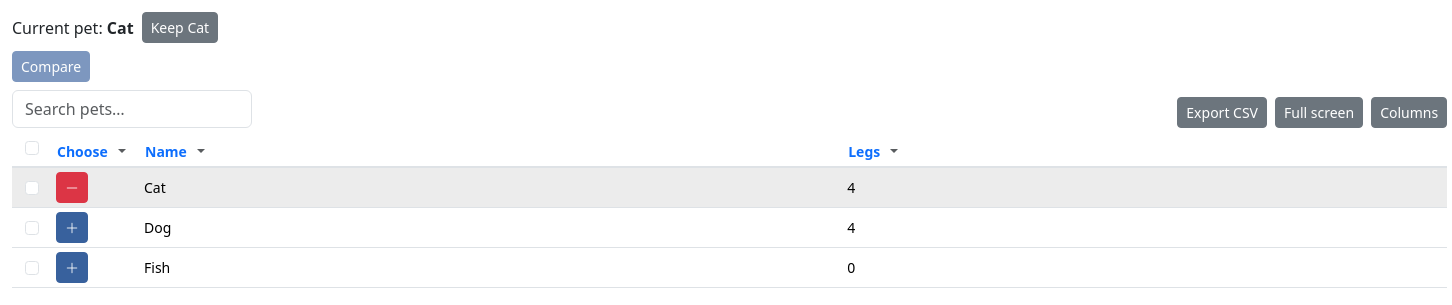
PickOne › when the section opens and shuts the table › shuts the table on Remove, leaving the line to choose again
The image size is (1452, 305).
What coordinates should you click on to do the following:
click the button named "Remove"
I would click on:
 (72, 188)
Its box is top-left (56, 172), bottom-right (88, 203).
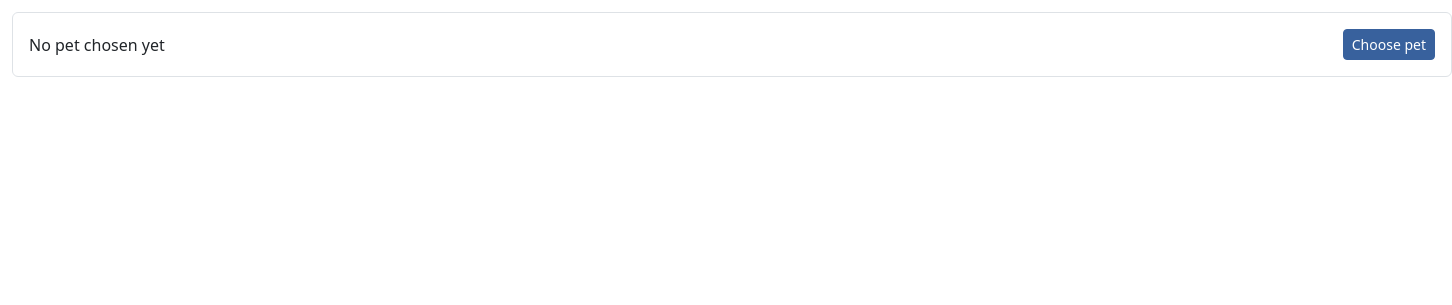
expect the text "No pet chosen yet" is shown: met, box top-left (29, 34), bottom-right (165, 56)
